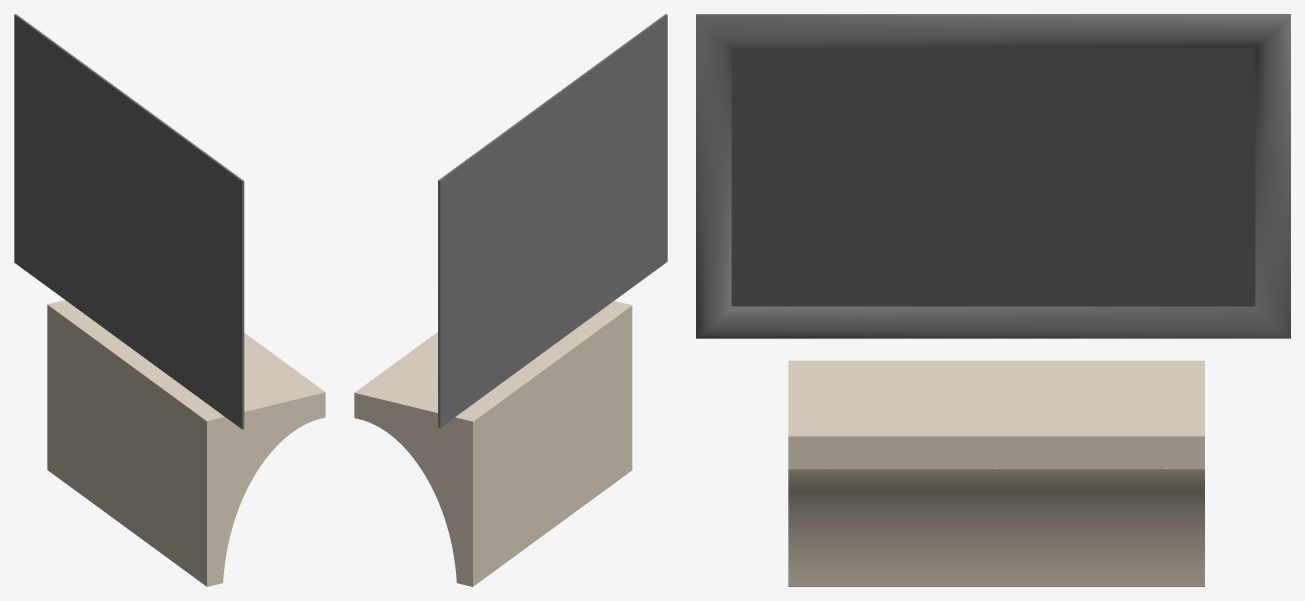
The model's file is VISIONNAIRE_Atman_Circum_buduar.FBX.
3 views of the same model, side by side, from view 1: azimuth 30°, elevation 25°; view 2: azimuth 150°, elevation 25°; view 3: azimuth 270°, elevation 25° (orthographic). The views are drawn at different scales.
Visible parts, largest first — view 1: Box001, Line001; view 2: Box001, Line001; view 3: Box001, Line001, Line003.
Part boxes in pixels (x1,y1,x2,y2): Box001: [14, 14, 244, 429]; Line001: [47, 300, 325, 586]; Box001: [438, 14, 667, 427]; Line001: [354, 301, 632, 586]; Box001: [696, 14, 1290, 306]; Line001: [788, 360, 1204, 586]; Line003: [696, 15, 1290, 338].
Size of the model in its own units: 602 by 2088 by 2000.
